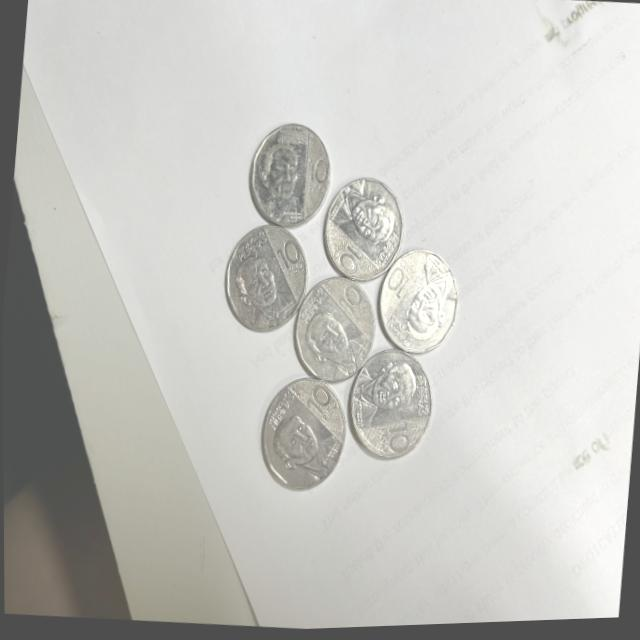10_New_Front: (269, 228, 309, 282), (331, 241, 372, 285), (376, 260, 411, 310), (299, 158, 333, 207), (332, 291, 370, 333), (292, 384, 336, 420), (377, 421, 410, 460)
